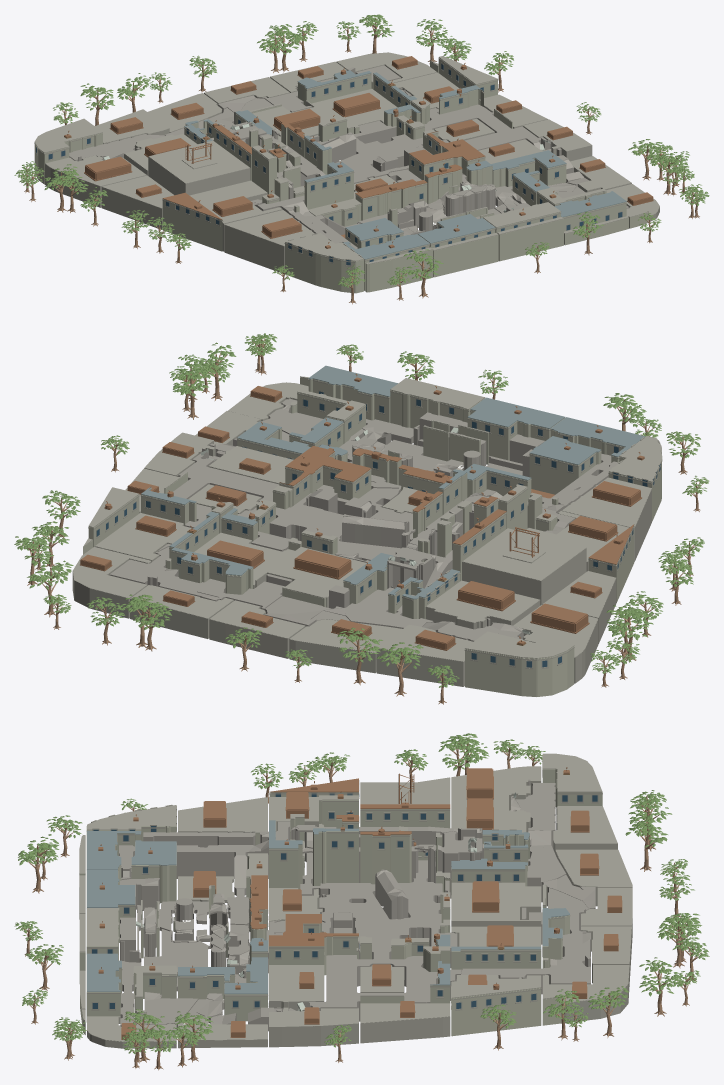
Rendered from train.glb.
3 views of the same model, one above another, from view 1: azimuth 30°, elevation 25°; view 2: azimuth 150°, elevation 25°; view 3: azimuth 270°, elevation 25° (orthographic). The views are drawn at different scales.
Visible parts, largest first — view 1: ARENA_lower_stone, ARENA_lower_brick, ARENA_lower_paving, ARENA_lower_leaf, ARENA_lower_metal, ARENA_lower_roof, ARENA_upper_stone, ARENA_upper_brick, ARENA_lower_bark, ARENA_upper_paving, ARENA_lower_glass, ARENA_upper_metal; view 2: ARENA_lower_stone, ARENA_lower_brick, ARENA_lower_paving, ARENA_lower_metal, ARENA_lower_leaf, ARENA_lower_roof, ARENA_upper_stone, ARENA_upper_brick, ARENA_lower_bark, ARENA_upper_paving, ARENA_lower_glass, ARENA_upper_metal (+1 smaller); view 3: ARENA_lower_stone, ARENA_lower_paving, ARENA_lower_brick, ARENA_lower_leaf, ARENA_lower_metal, ARENA_lower_roof, ARENA_upper_brick, ARENA_lower_bark, ARENA_upper_paving, ARENA_upper_stone, ARENA_lower_glass, ARENA_upper_metal (+1 smaller).
Boxes of the visible parts, x1,y1,x2,y2 form: ARENA_lower_stone: (34,52,659,272); ARENA_lower_brick: (34,58,648,293); ARENA_lower_paving: (69,65,628,248); ARENA_lower_leaf: (14,14,709,287); ARENA_lower_metal: (64,56,653,248); ARENA_lower_roof: (184,70,626,259); ARENA_upper_stone: (148,128,354,195); ARENA_upper_brick: (214,124,353,209); ARENA_lower_bark: (22,18,701,304); ARENA_upper_paving: (218,122,352,198); ARENA_lower_glass: (36,64,622,265); ARENA_upper_metal: (185,122,342,248); ARENA_lower_stone: (72,376,662,686); ARENA_lower_brick: (83,377,661,696); ARENA_lower_paving: (109,399,618,641); ARENA_lower_metal: (80,374,641,650); ARENA_lower_leaf: (14,333,709,687); ARENA_lower_roof: (141,365,645,599); ARENA_upper_stone: (412,471,586,605); ARENA_upper_brick: (413,470,542,580); ARENA_lower_bark: (22,338,703,704); ARENA_upper_paving: (342,489,528,588); ARENA_lower_glass: (96,391,660,667); ARENA_upper_metal: (413,452,644,580); ARENA_lower_stone: (79,753,632,1048); ARENA_lower_paving: (119,779,595,1031); ARENA_lower_brick: (79,769,602,1036); ARENA_lower_leaf: (14,733,709,1054); ARENA_lower_metal: (98,767,622,1039); ARENA_lower_roof: (87,830,569,994); ARENA_upper_brick: (269,800,450,889); ARENA_lower_bark: (21,739,701,1070); ARENA_upper_paving: (291,825,482,919); ARENA_upper_stone: (269,782,450,861); ARENA_lower_glass: (92,793,597,1008); ARENA_upper_metal: (133,773,478,844).
Size of what is drawn, in the model's own units: 67.53 by 8.89 by 64.91.
